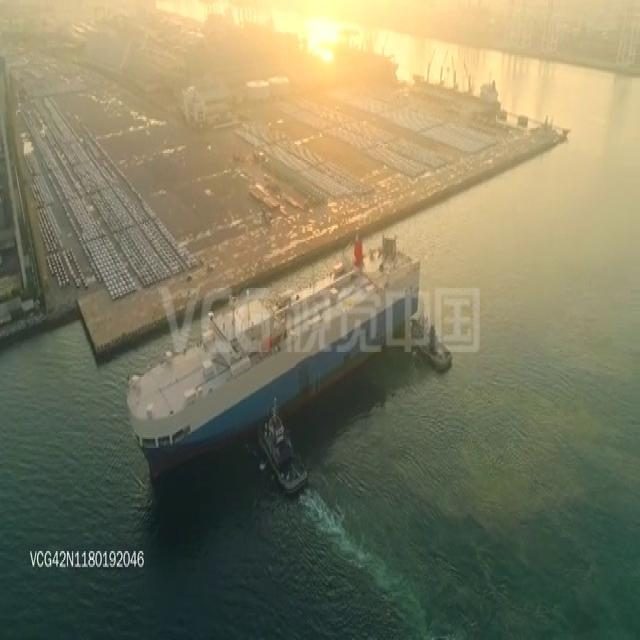cargoship: (123, 243, 419, 467)
houseboat: (260, 406, 308, 494), (406, 308, 457, 371)
